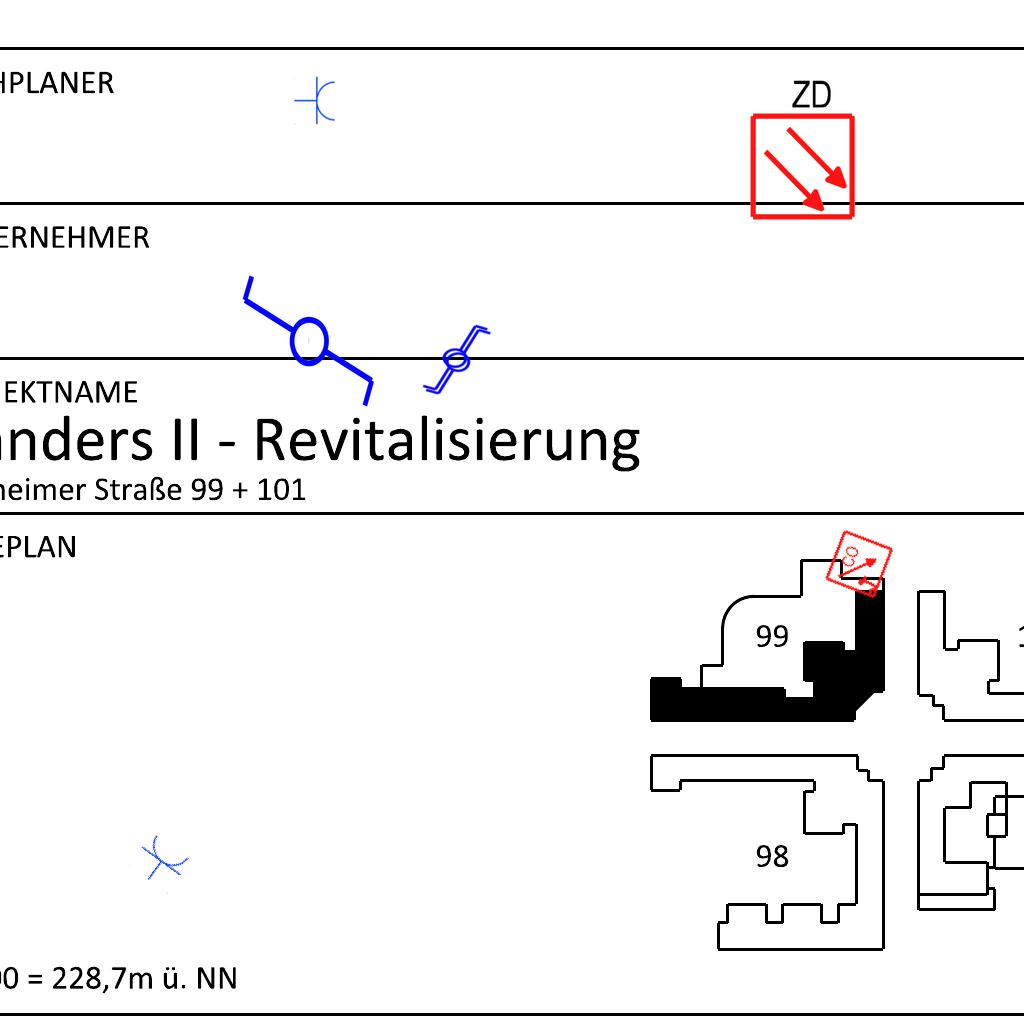ROA_Rauchmelder_optisch_mit_Signalgeber_(Sockelsirene): (823, 527, 897, 601)
Schukosteckdose_einfach: (128, 830, 194, 895), (294, 76, 337, 126)
Wechselschalter: (235, 271, 379, 428), (412, 321, 490, 393), (415, 325, 493, 397)
ZD_Melder_in_Zwischendecke_mit_Revisionsoeffnung_mind_40_x_40_cm: (744, 73, 858, 222)
